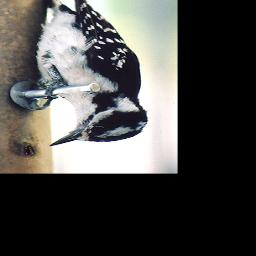Woodpecker: (28, 0, 149, 146)
